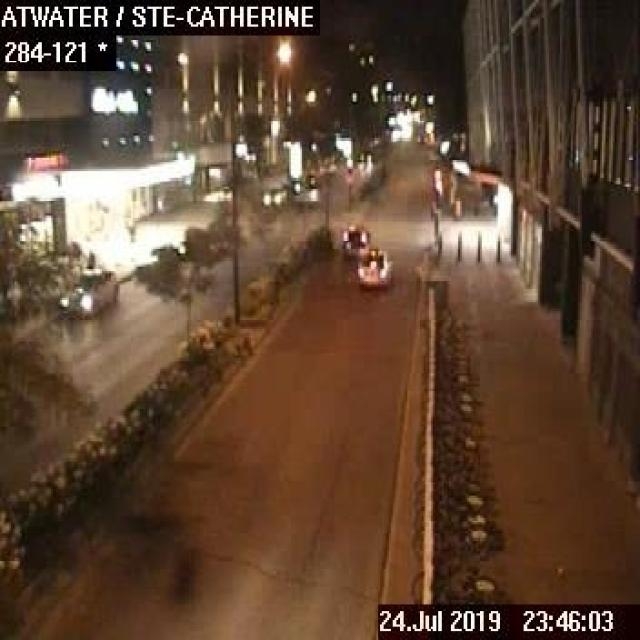vehicle: (58, 264, 116, 318), (354, 245, 391, 288), (341, 224, 368, 254), (260, 181, 287, 205)
